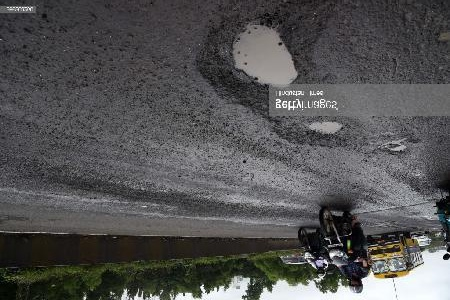pothole: (194, 0, 332, 108), (266, 115, 357, 150), (376, 133, 414, 156)
